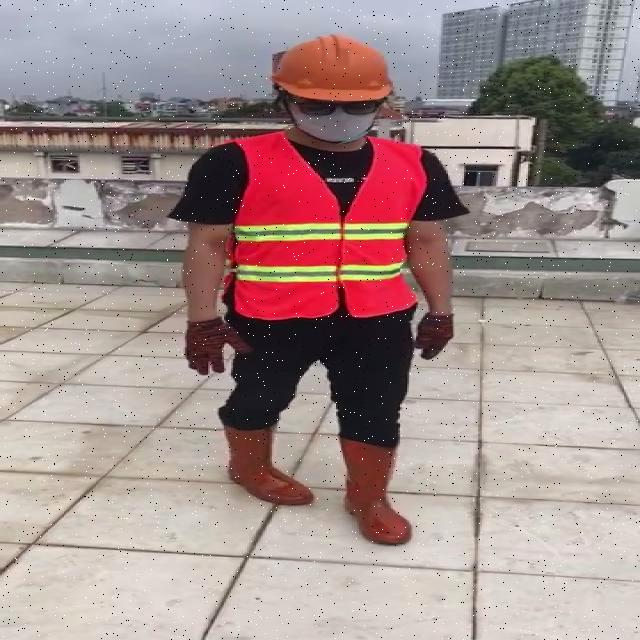Hard_hat: (267, 29, 405, 107)
Vest: (226, 129, 416, 325)
